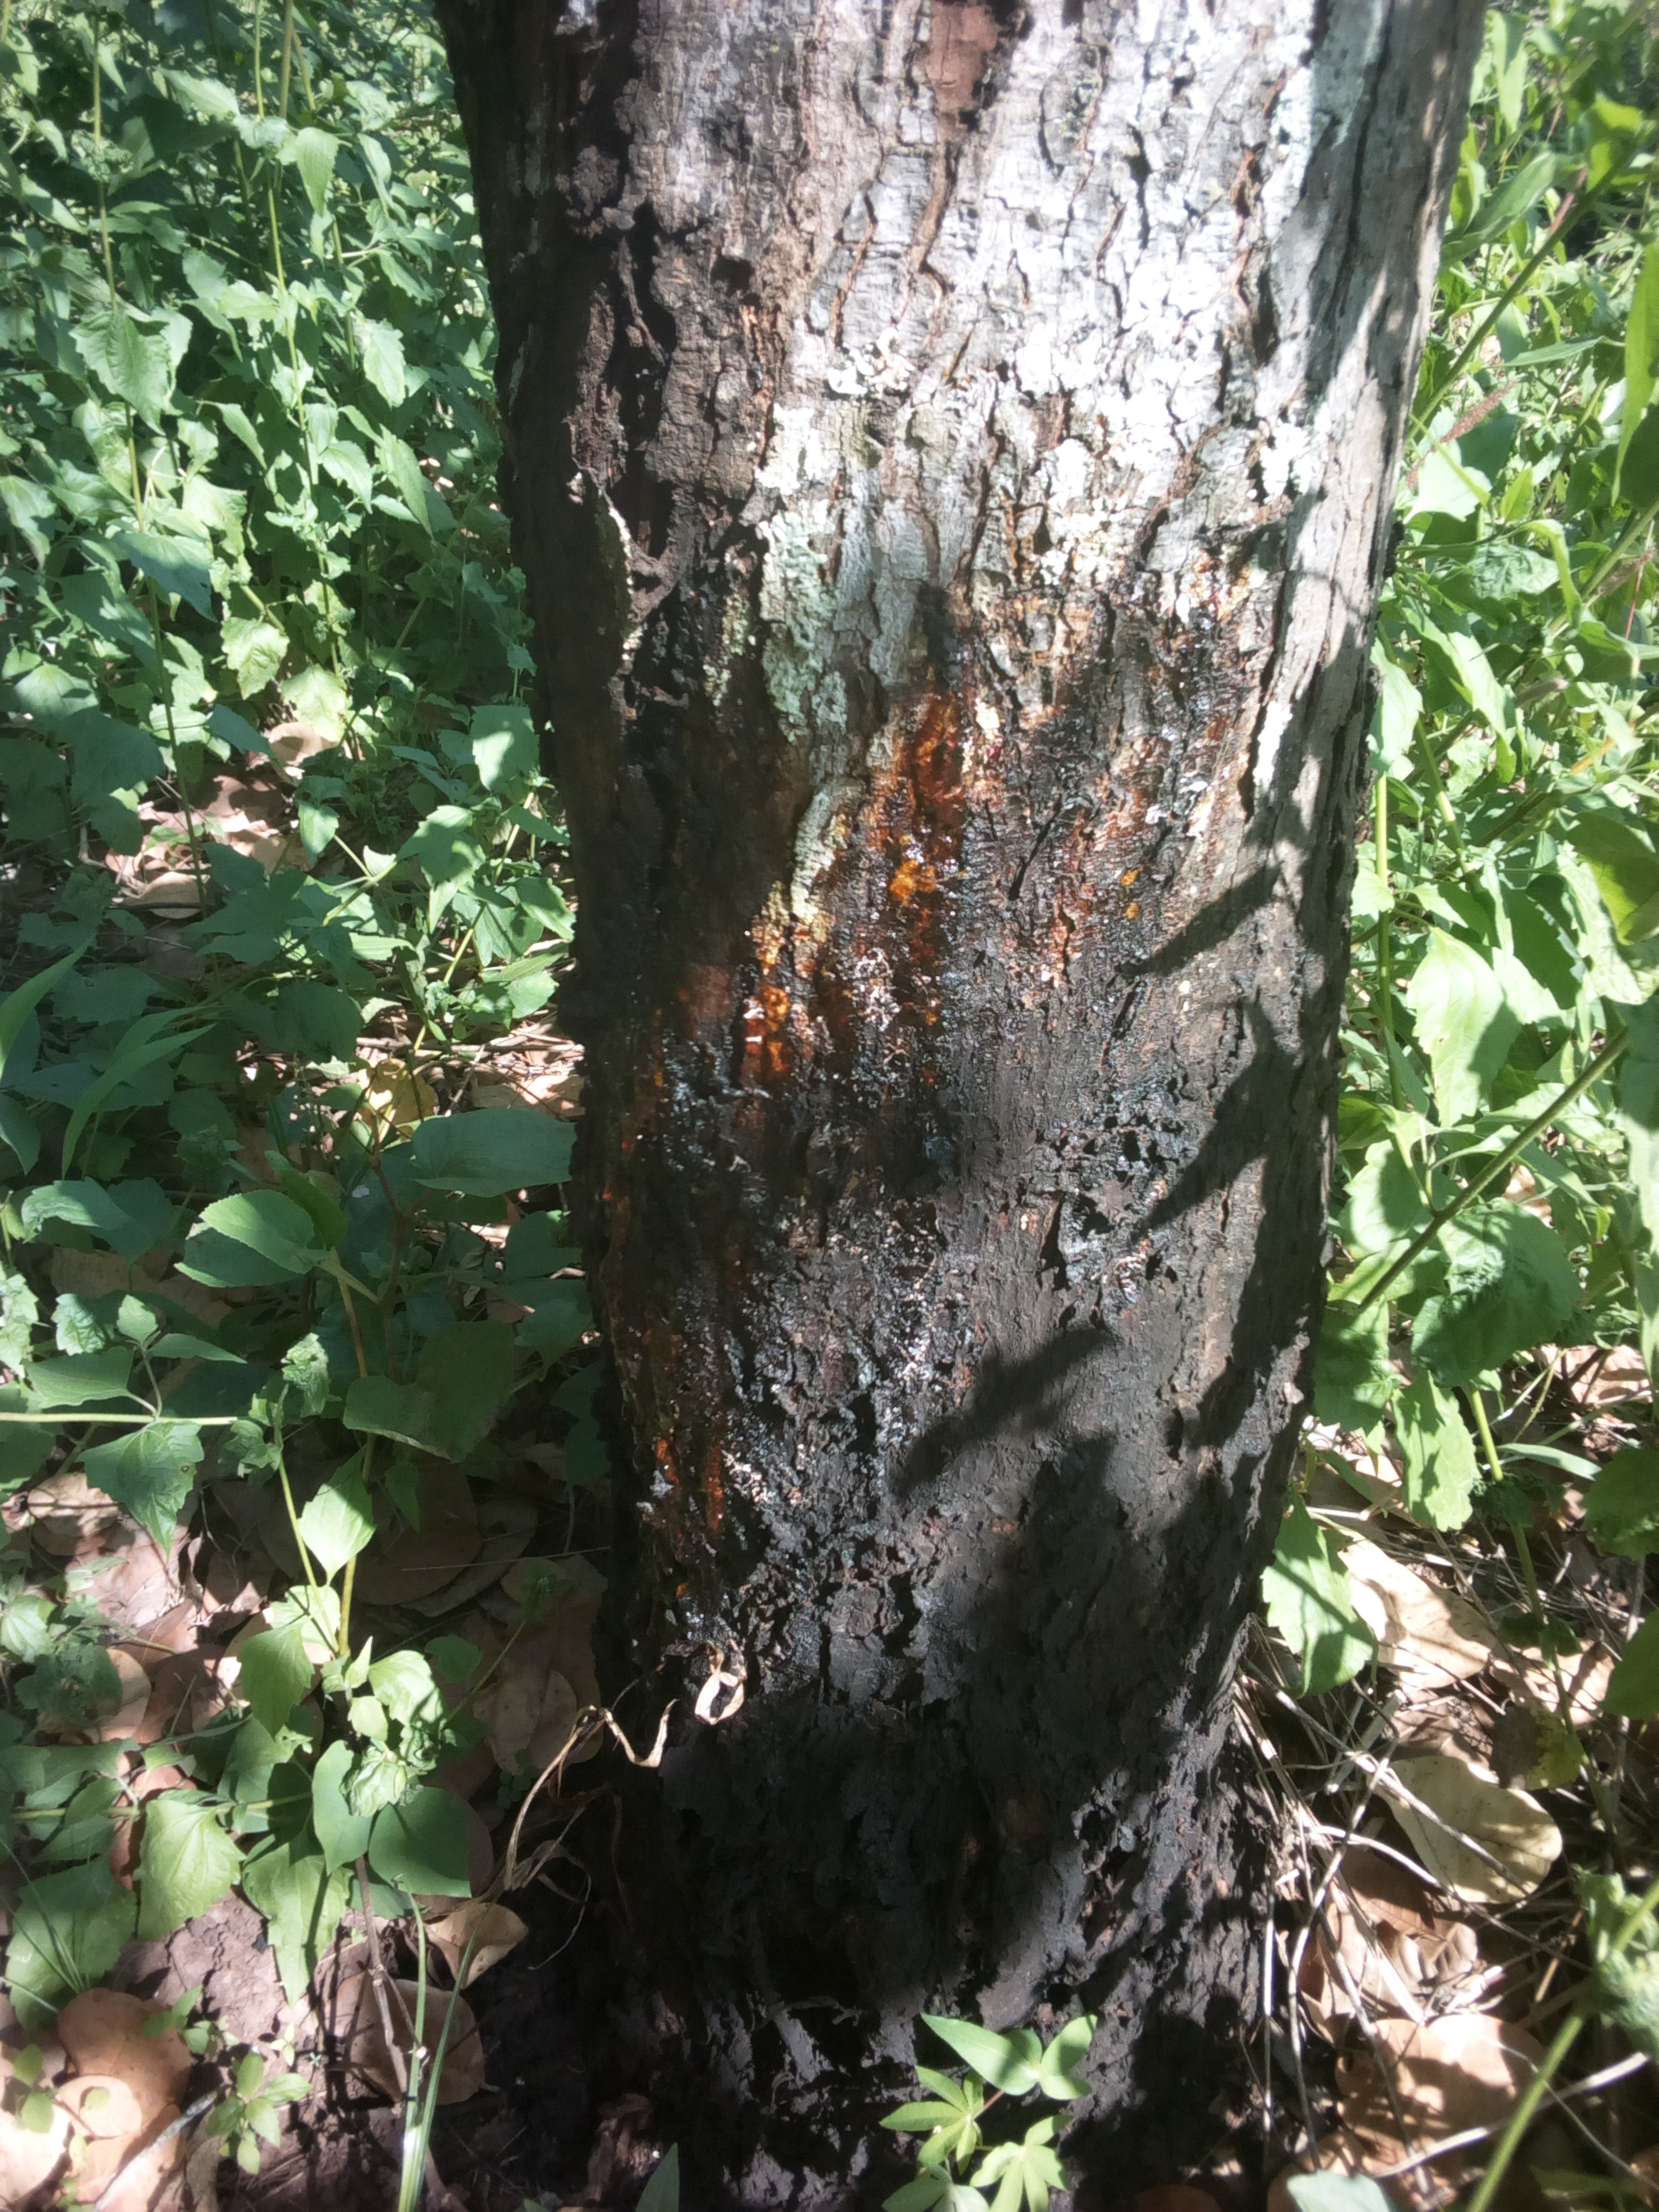Gommose: (619, 669, 1300, 2017)
